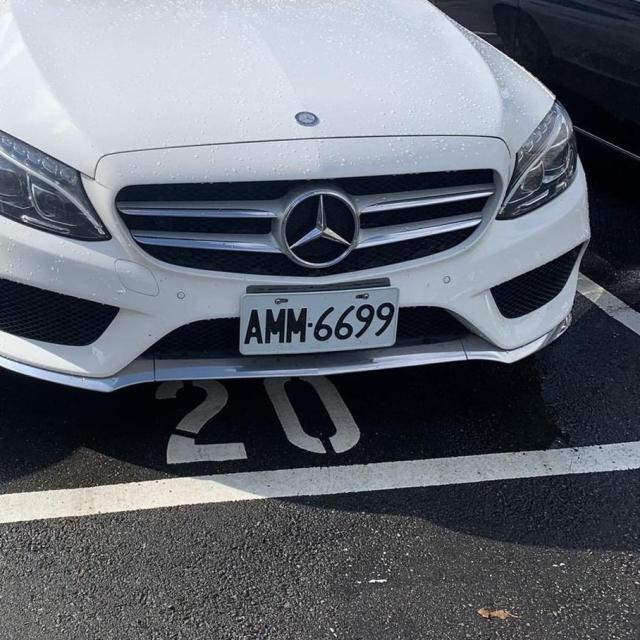W: (229, 279, 413, 362)
